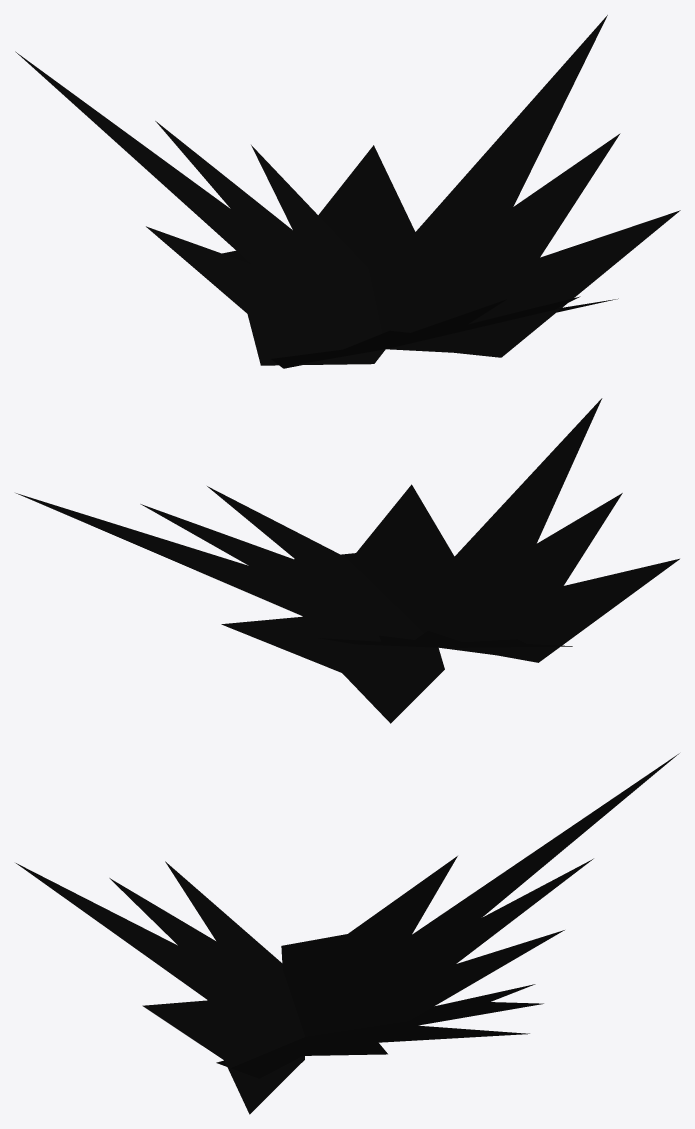
The model's file is Xplosion.fbx.
The picture shows the model from 3 angles, top to bottom: view 1: azimuth 30°, elevation 25°; view 2: azimuth 150°, elevation 25°; view 3: azimuth 270°, elevation 25°; orthographic projection. The views are drawn at different scales.
Parts seen in each view (by area): view 1: pPlane70; view 2: pPlane70; view 3: pPlane70.
Part boxes in pixels (box(x1,y1,x2,y2)): pPlane70: box(15, 15, 680, 368); pPlane70: box(16, 398, 679, 723); pPlane70: box(16, 753, 679, 1114).
Size of the model in its own units: 7.14 by 2.66 by 8.01.
